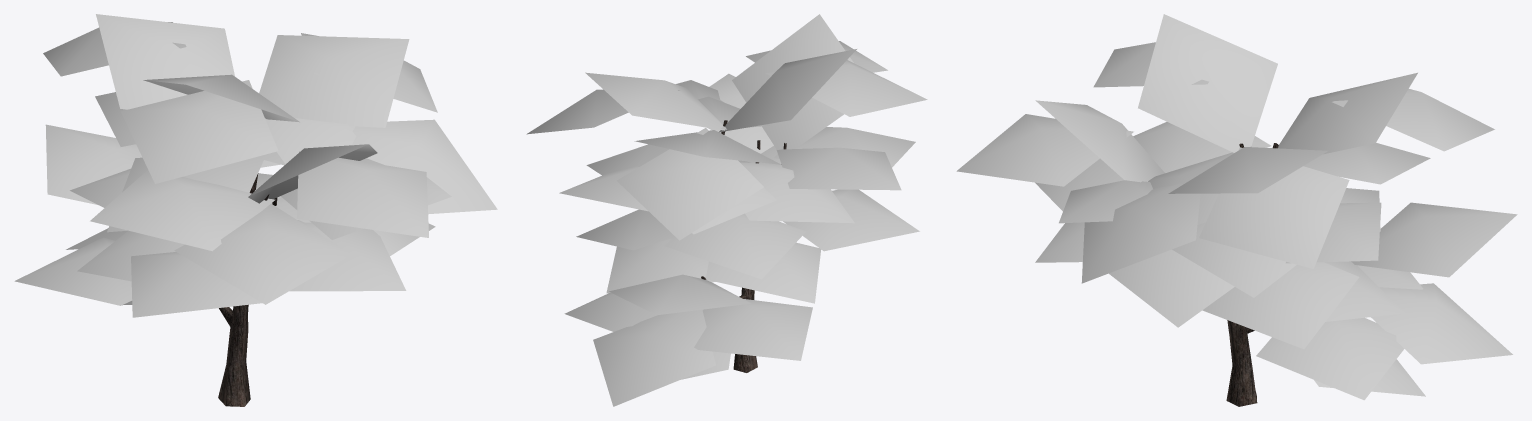
File: arce02_unwrap.FBX
The picture shows the model from 3 angles, left to right: view 1: azimuth 30°, elevation 25°; view 2: azimuth 150°, elevation 25°; view 3: azimuth 270°, elevation 25°; orthographic projection. The views are drawn at different scales.
Visible parts, largest first — view 1: Tronco Arce, TRONCO; view 2: Tronco Arce, TRONCO; view 3: Tronco Arce, TRONCO.
Boxes of the visible parts, x1,y1,x2,y2 form: Tronco Arce: (14, 14, 497, 317); TRONCO: (218, 173, 277, 406); Tronco Arce: (526, 14, 927, 406); TRONCO: (701, 120, 786, 372); Tronco Arce: (956, 14, 1517, 400); TRONCO: (1226, 143, 1278, 406).
Bounding box in the file's own units: 242 × 220 × 324.
